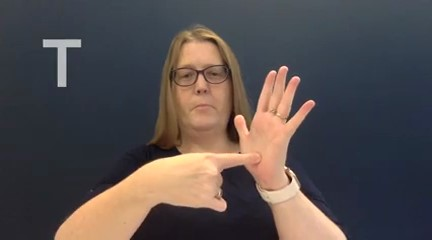T: (152, 58, 321, 219)
